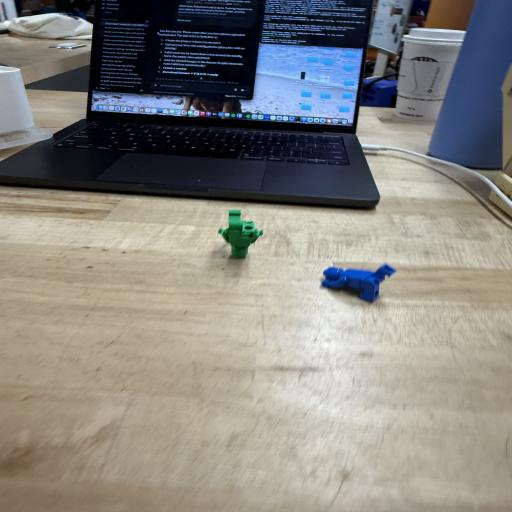blue-minifig: (322, 264, 396, 302)
green-minifig: (219, 210, 263, 258)
